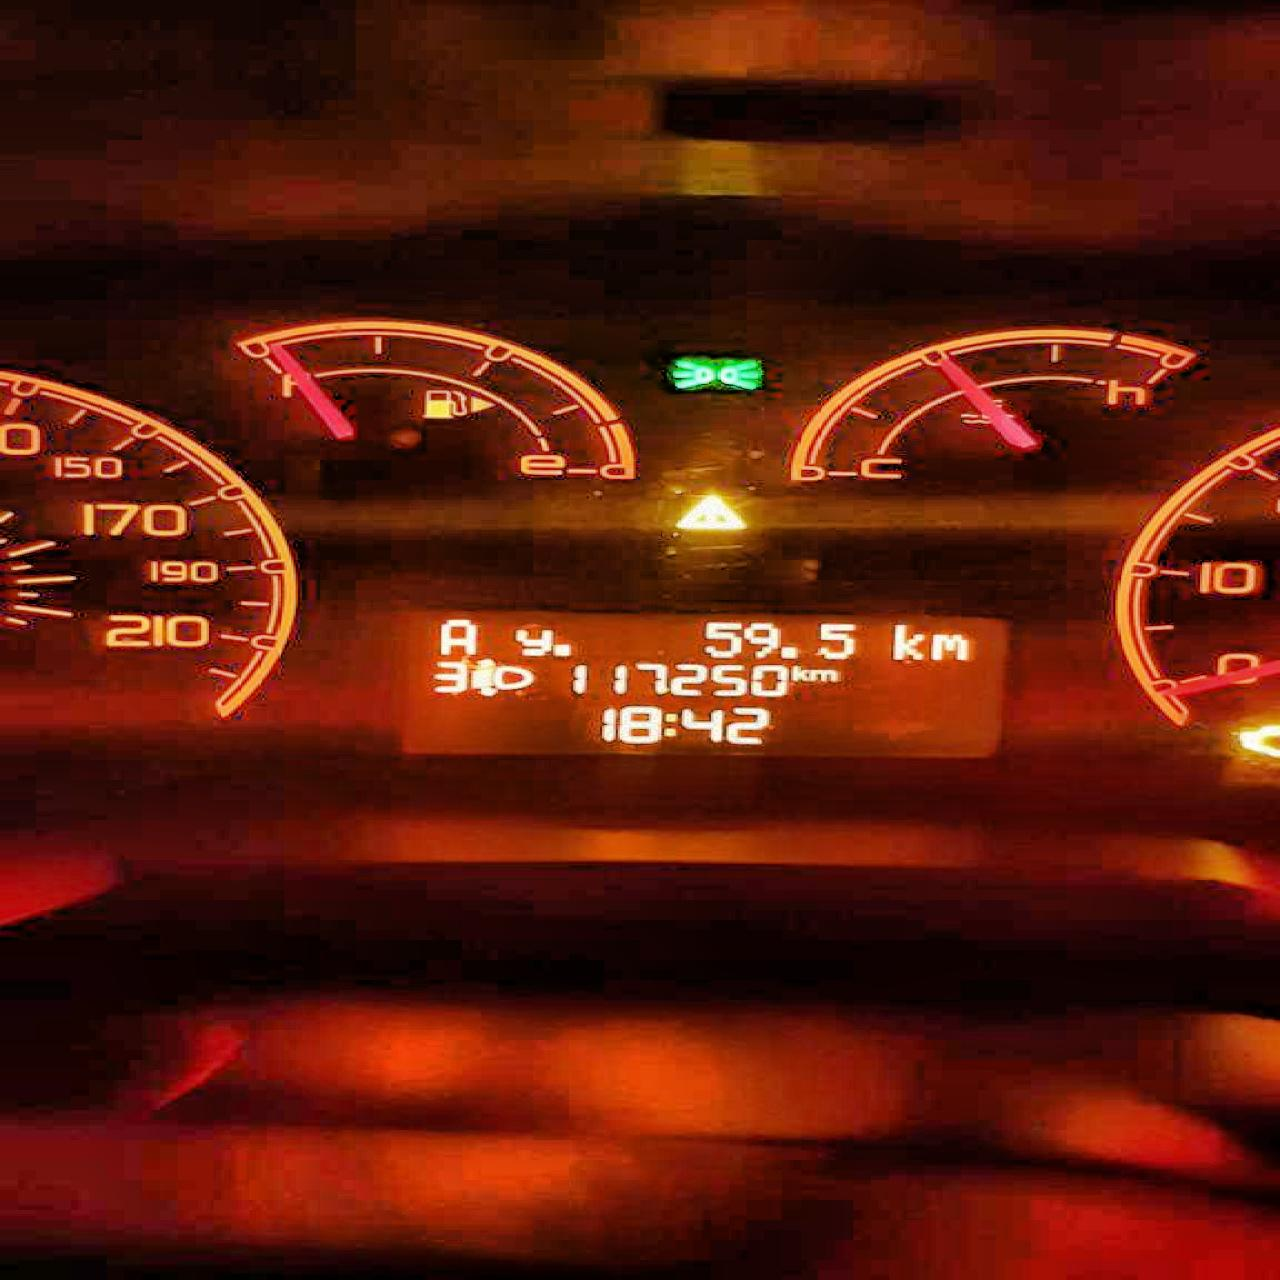-: (776, 644, 801, 659), (551, 641, 573, 656)
0: (749, 662, 789, 697)
1: (564, 661, 588, 695), (605, 660, 628, 694), (595, 706, 615, 743)
2: (724, 704, 771, 745), (669, 661, 709, 696)
3: (427, 659, 469, 695)
4: (678, 707, 722, 742)
5: (809, 620, 858, 660), (697, 619, 740, 659), (709, 662, 749, 696)
7: (632, 660, 667, 695)
8: (615, 703, 660, 745)
9: (740, 620, 779, 659)
X: (431, 617, 478, 656), (886, 620, 925, 660), (927, 631, 973, 661), (511, 625, 551, 658), (660, 710, 678, 736), (809, 667, 840, 681), (789, 663, 809, 681)
odometer: (372, 598, 1020, 763)
